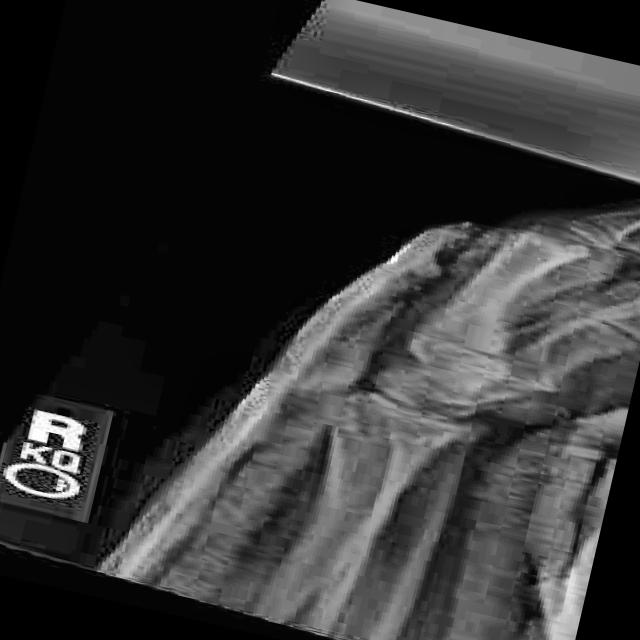wrist positive: (300, 393, 505, 463), (393, 316, 519, 375)
